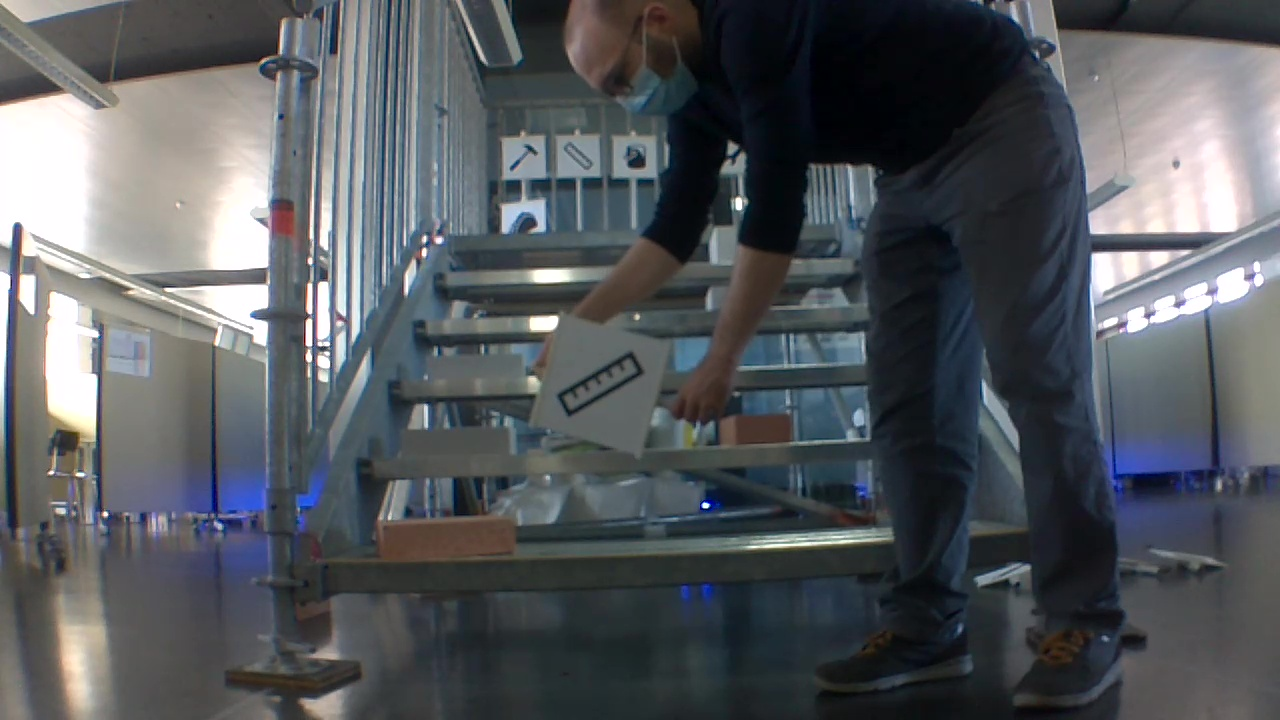brick: (370, 509, 524, 561), (423, 348, 522, 382), (400, 422, 510, 452), (736, 413, 794, 446), (716, 227, 734, 267)
bucket: (621, 140, 650, 172)
hammer: (510, 143, 537, 172)
ruler: (560, 351, 649, 418), (562, 140, 593, 170)
taco: (507, 207, 542, 235)
